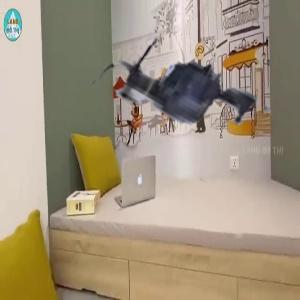drone: (85, 6, 283, 204)
